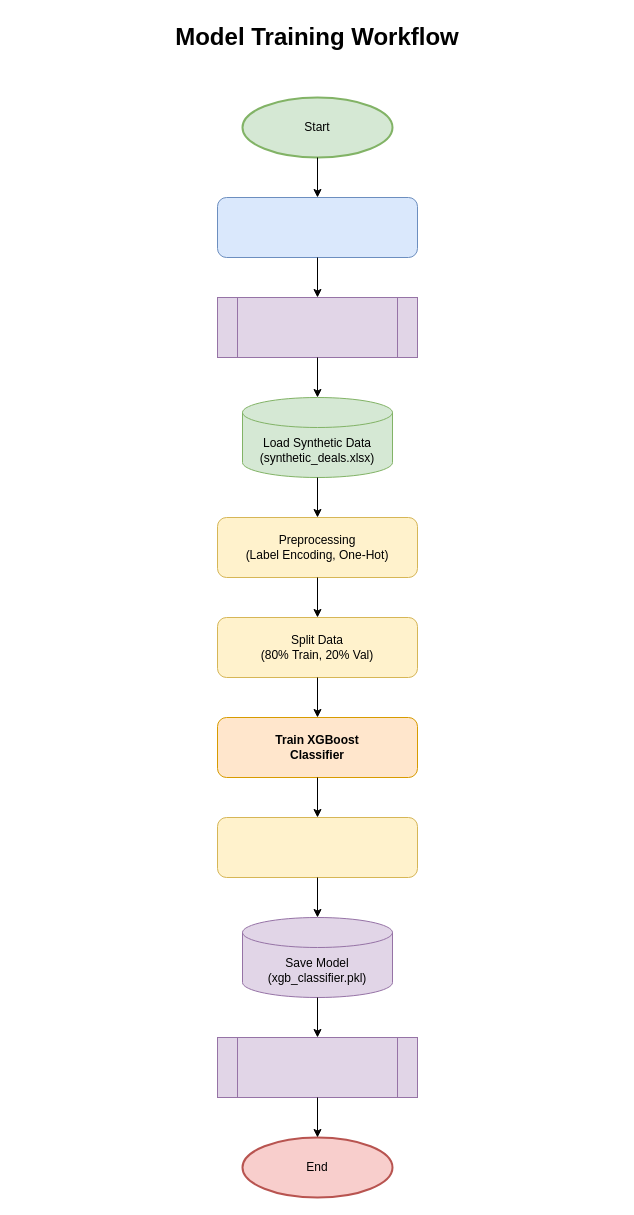
This 634x1215 diagram has some shape labels left out. The box of each missing label's shape, as (x1, y1, x2, y2) in pixels:
API Call: POST /train-model: (216, 296, 418, 358)
Calculate Validation Accuracy: (216, 816, 418, 878)
Return Response (success, accuracy): (216, 1036, 418, 1098)
User clicks 'Train Model': (216, 196, 418, 258)
